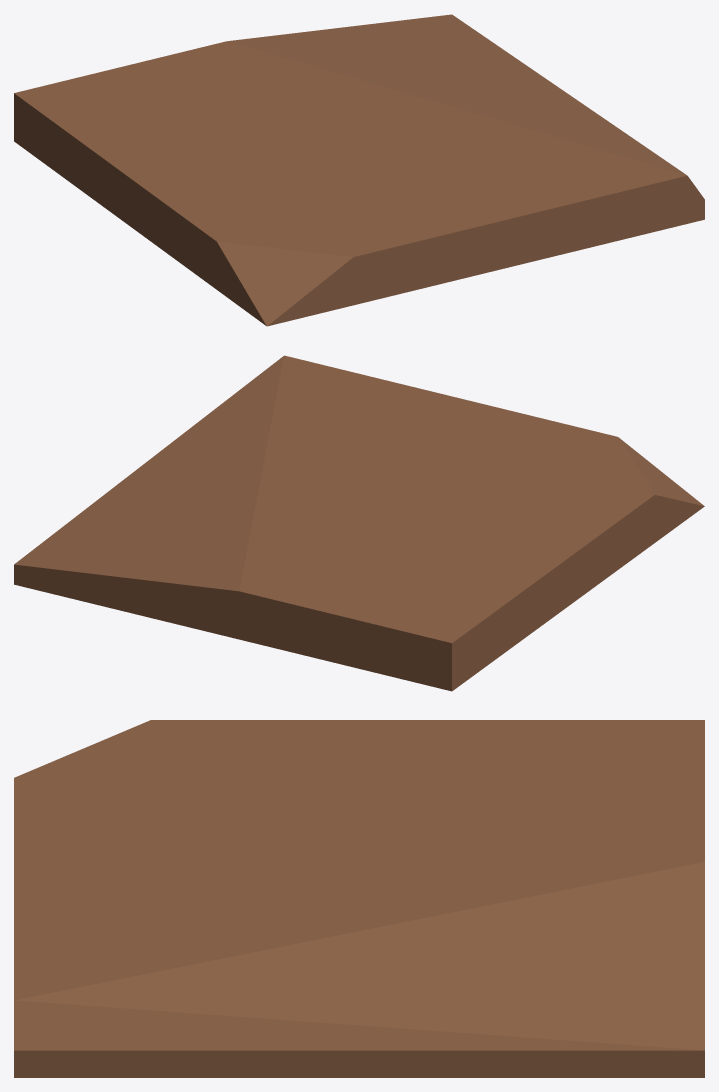
The model's file is Stoneslab_001.FBX.
3 views of the same model, one above another, from view 1: azimuth 30°, elevation 25°; view 2: azimuth 150°, elevation 25°; view 3: azimuth 270°, elevation 25° (orthographic). The views are drawn at different scales.
Parts seen in each view (by area): view 1: Stoneslab_001; view 2: Stoneslab_001; view 3: Stoneslab_001.
Part boxes in pixels (box(x1,y1,x2,y2)): Stoneslab_001: box(14, 14, 704, 326); Stoneslab_001: box(14, 355, 704, 691); Stoneslab_001: box(14, 720, 704, 1077).
Bounding box in the file's own units: 37.4 × 3.94 × 37.4.
